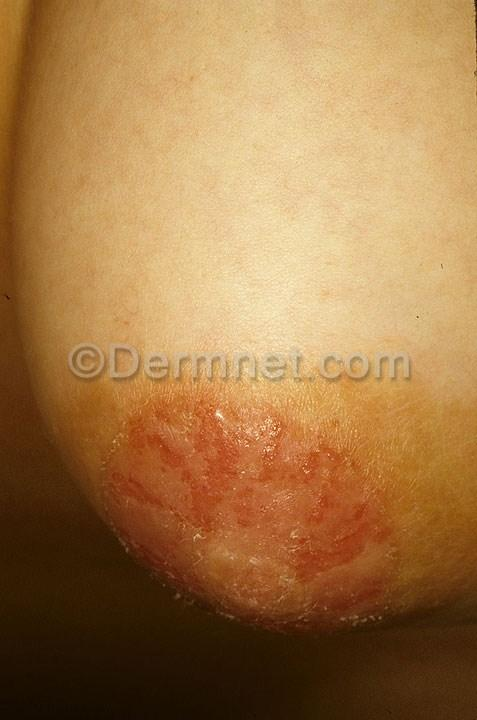Eczema: (98, 390, 410, 641)
